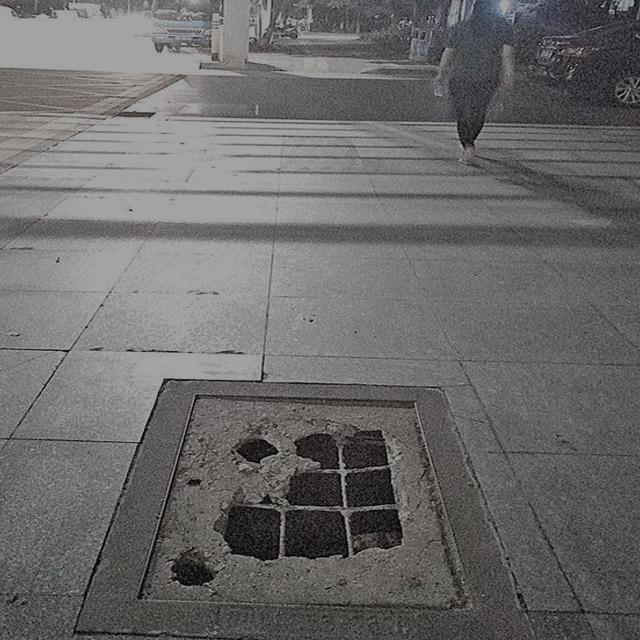broke: (62, 377, 537, 640)
